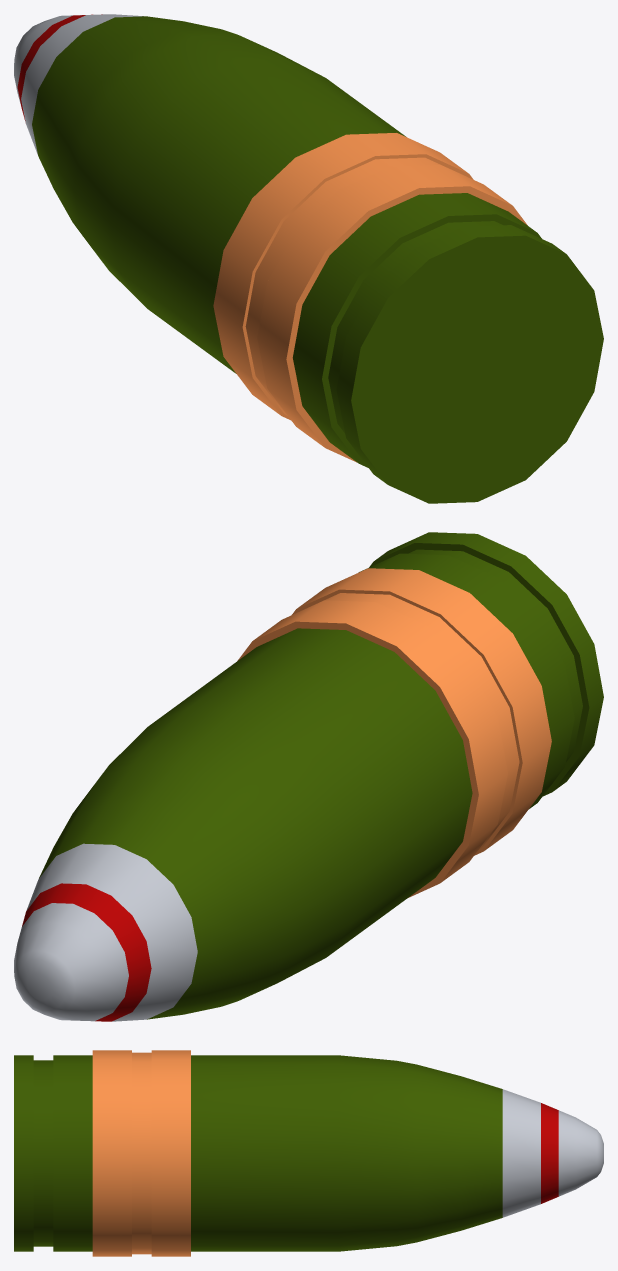
Rendered from aphe_bullet_PzGr43_128mm.fbx.
3 renders of one model, top to bottom at view 1: azimuth 30°, elevation 25°; view 2: azimuth 150°, elevation 25°; view 3: azimuth 270°, elevation 25°, orthographic. The views are drawn at different scales.
Parts seen in each view (by area): view 1: Cylinder; view 2: Cylinder; view 3: Cylinder.
Part boxes in pixels (bbox=[...]): Cylinder: bbox=[14, 14, 603, 503]; Cylinder: bbox=[14, 532, 603, 1021]; Cylinder: bbox=[14, 1050, 603, 1256].
Size of the model in its own units: 105 by 105 by 300.
